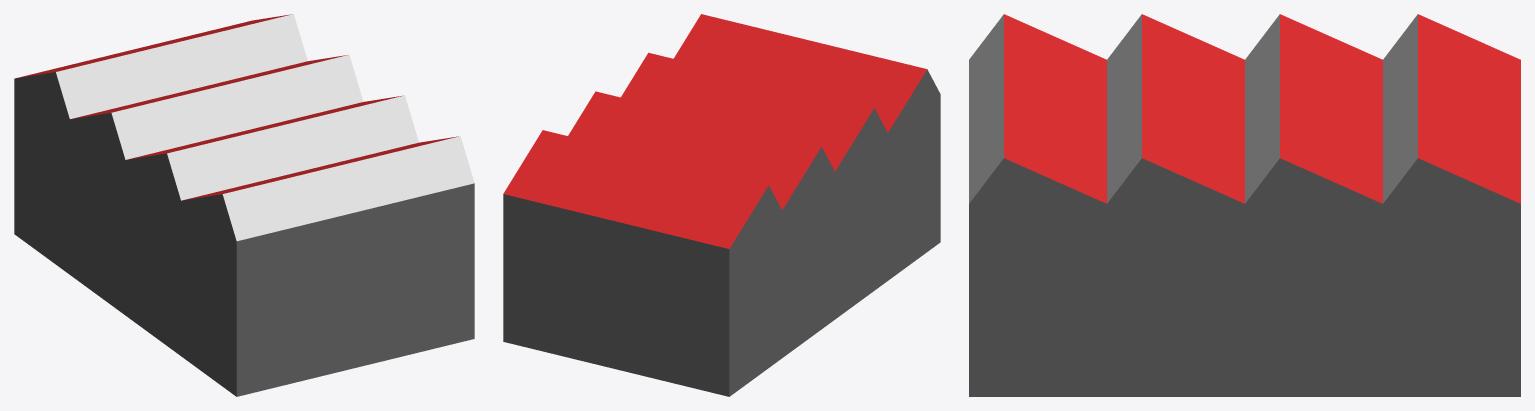
Rendered from ZagBld.fbx.
3 views of the same model, side by side, from view 1: azimuth 30°, elevation 25°; view 2: azimuth 150°, elevation 25°; view 3: azimuth 270°, elevation 25° (orthographic). The views are drawn at different scales.
Visible parts, largest first — view 1: Cube.002; view 2: Cube.002; view 3: Cube.002.
Part boxes in pixels (x1,y1,x2,y2): Cube.002: (14,14,474,396); Cube.002: (503,14,940,396); Cube.002: (969,14,1520,396).
Size of the model in its own units: 800 by 619 by 1295.
